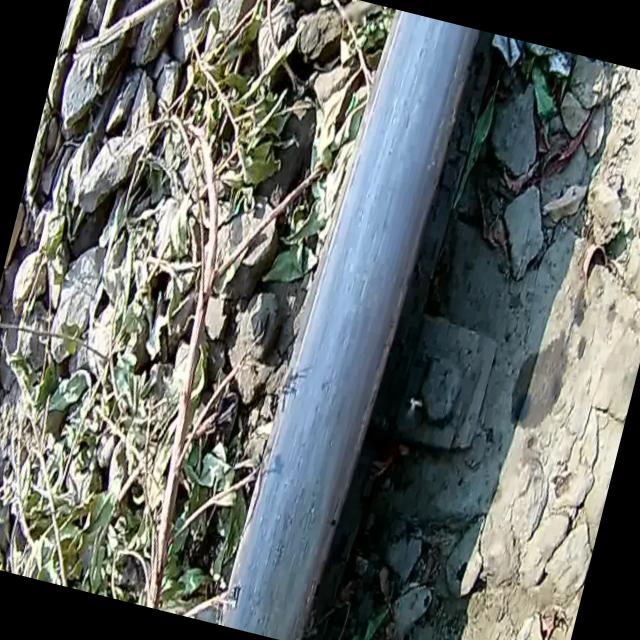Squats: (193, 0, 502, 640)
